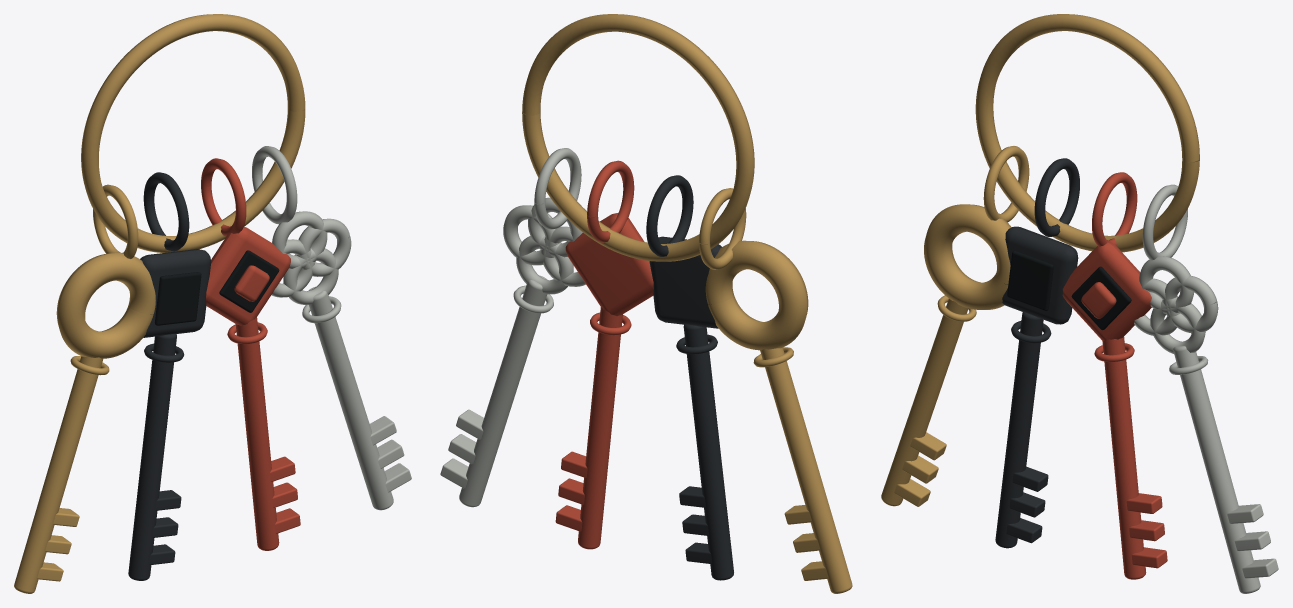
File: escritorio_molho_chaves.glb
3 views of the same model, side by side, from view 1: azimuth 30°, elevation 25°; view 2: azimuth 150°, elevation 25°; view 3: azimuth 330°, elevation 25° (orthographic). The views are drawn at different scales.
Parts seen in each view (by area): view 1: molho_chaves; view 2: molho_chaves; view 3: molho_chaves.
Boxes of the visible parts, <box> form: molho_chaves: <box>14,14,411,593</box>; molho_chaves: <box>440,14,852,593</box>; molho_chaves: <box>881,14,1278,593</box>.
Size of the model in its own units: 0.2465 by 0.3219 by 0.049.
